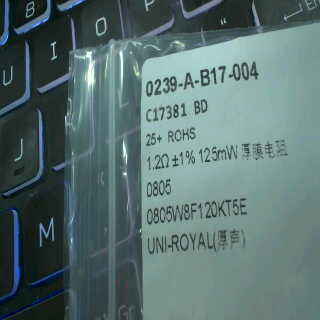1.2R: (146, 151, 173, 202)
